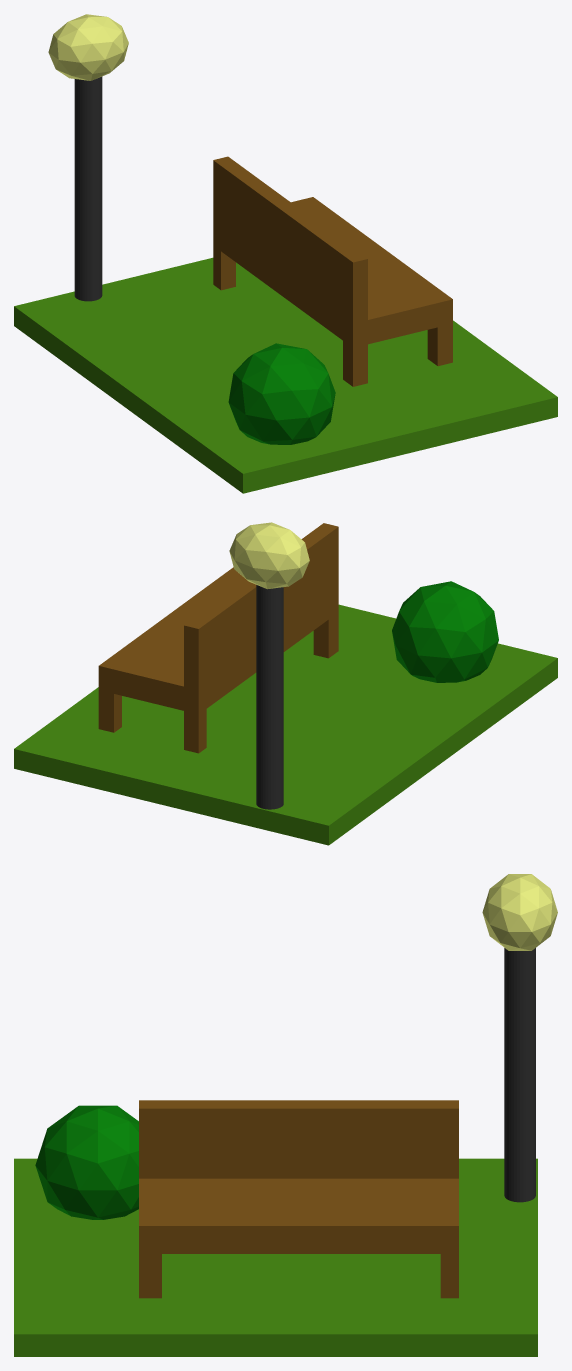
Rendered from panchina.glb.
3 views of the same model, one above another, from view 1: azimuth 30°, elevation 25°; view 2: azimuth 150°, elevation 25°; view 3: azimuth 270°, elevation 25° (orthographic). The views are drawn at different scales.
Visible parts, largest first — view 1: Cube.001, Cube, Icosphere, Cylinder, Icosphere.001; view 2: Cube.001, Cube, Icosphere, Cylinder, Icosphere.001; view 3: Cube.001, Cube, Icosphere, Cylinder, Icosphere.001.
Boxes of the visible parts, x1,y1,x2,y2 form: Cube.001: (14, 257, 557, 493); Cube: (213, 156, 452, 386); Icosphere: (228, 343, 335, 444); Cylinder: (74, 76, 102, 301); Icosphere.001: (48, 14, 128, 80); Cube.001: (14, 604, 557, 845); Cube: (98, 523, 338, 753); Icosphere: (392, 581, 498, 682); Cylinder: (256, 585, 283, 809); Icosphere.001: (229, 522, 309, 589); Cube.001: (14, 1158, 537, 1356); Cube: (139, 1100, 458, 1298); Icosphere: (35, 1105, 138, 1219); Cylinder: (504, 948, 535, 1202); Icosphere.001: (482, 874, 557, 950).
Size of the model in its own units: 3.41 by 3.08 by 4.46.
